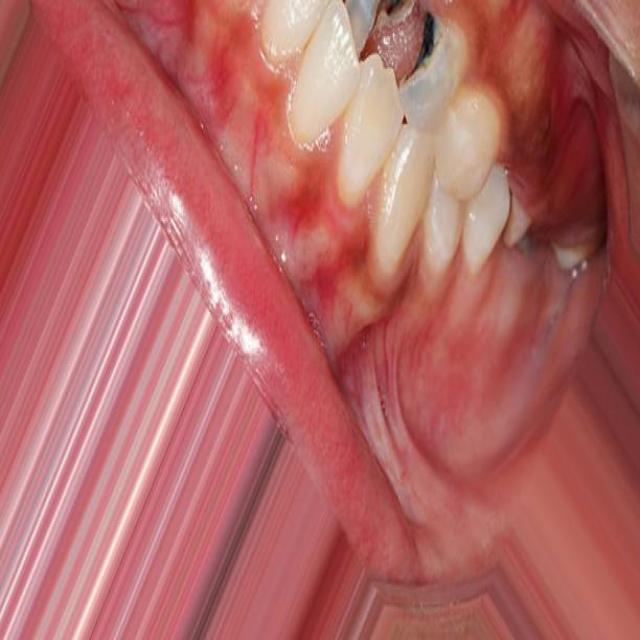caries: (404, 14, 470, 134), (346, 0, 419, 45)
